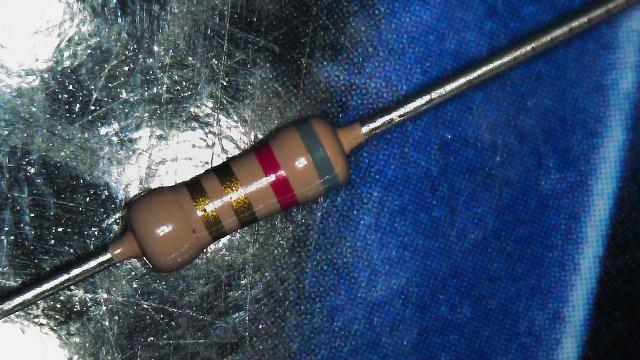gold: (213, 162, 257, 226), (190, 183, 219, 236)
grey: (292, 120, 340, 194)
red: (254, 142, 298, 210)
resistor: (85, 72, 389, 309)
